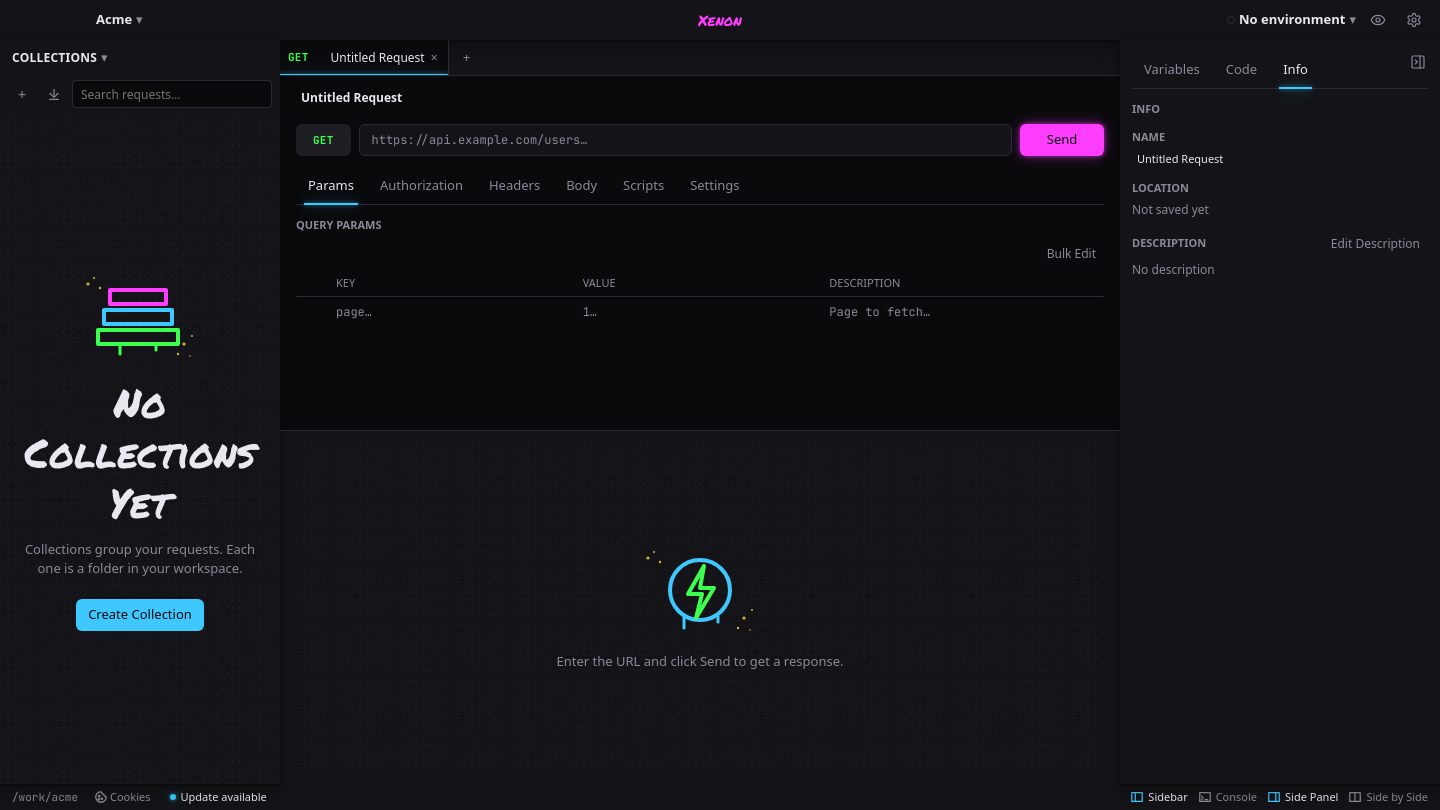
Test: App › shows the update notice in the footer next to the workspace items, opening the Settings tab
Expected: the field named "Request URL" is shown, [372, 132, 588, 148]
Expected: the text "/work/acme" is shown, [12, 789, 78, 805]
Click the button "Update available".
click(219, 797)  # box [166, 787, 271, 807]
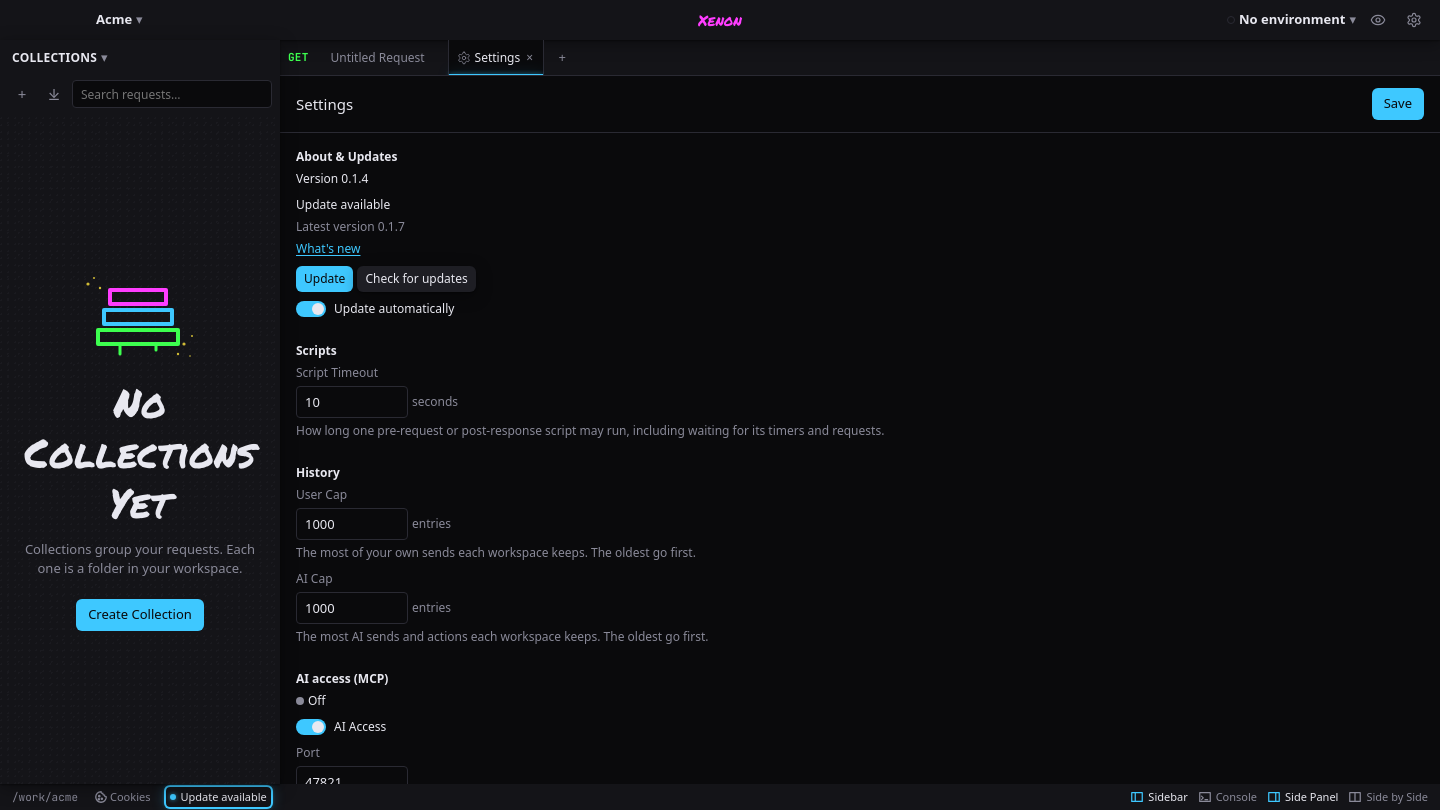
Result: the number of tabs is 2 at [280, 40, 449, 75]; [449, 40, 544, 75]
Result: the element "About & Updates" is shown at [296, 148, 476, 317]
